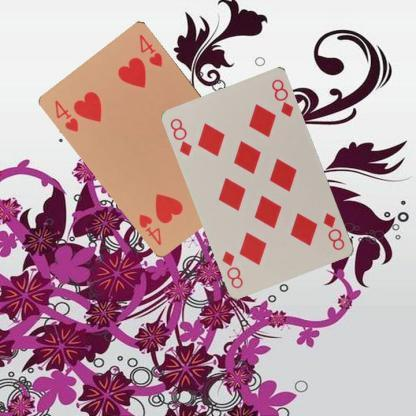4h: (51, 98, 80, 134)
8d: (320, 210, 346, 252), (168, 116, 194, 158)
